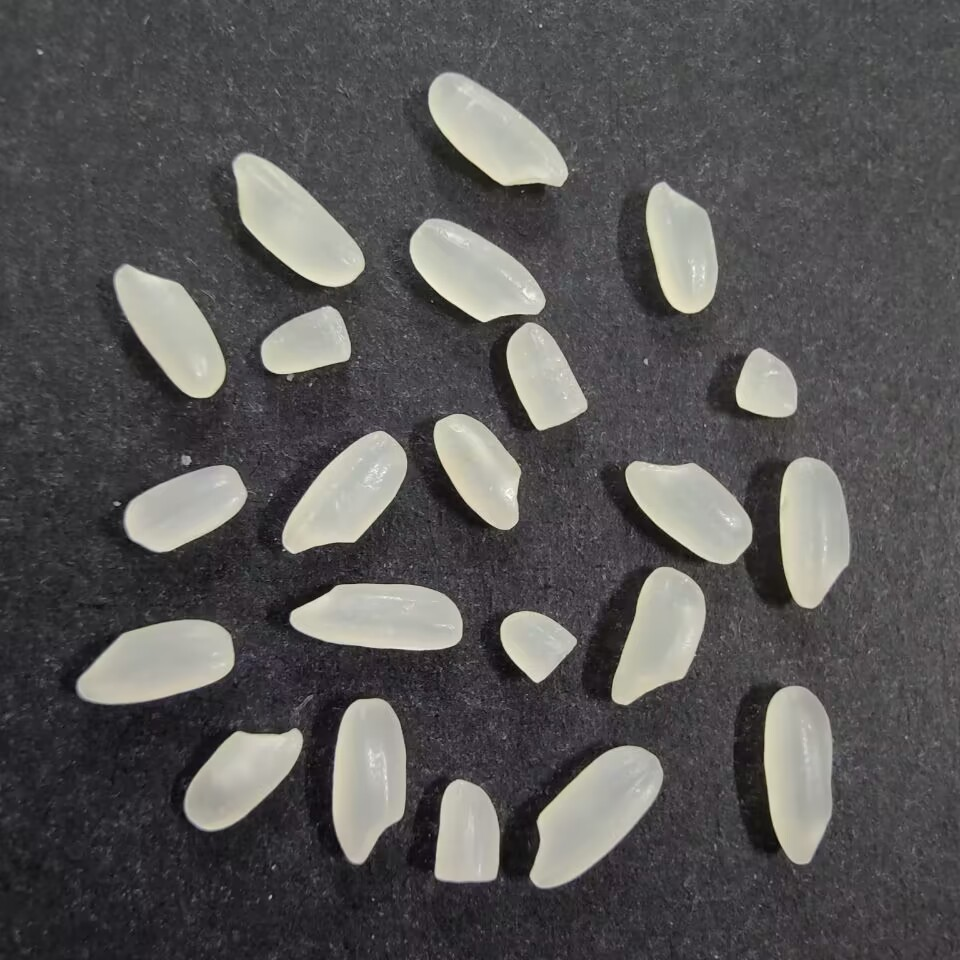broken: (118, 460, 247, 557), (504, 322, 591, 433), (430, 777, 502, 890), (256, 303, 354, 378), (493, 604, 579, 686), (730, 344, 800, 424)
rice: (527, 743, 667, 892), (225, 153, 373, 291), (425, 70, 571, 193), (109, 263, 232, 402), (279, 428, 406, 556), (621, 453, 756, 569), (405, 216, 550, 324), (69, 616, 236, 709), (605, 561, 706, 710), (761, 681, 839, 868), (329, 696, 415, 865), (179, 725, 306, 835), (285, 579, 467, 655), (775, 453, 855, 611), (430, 412, 527, 534), (642, 176, 721, 315)
